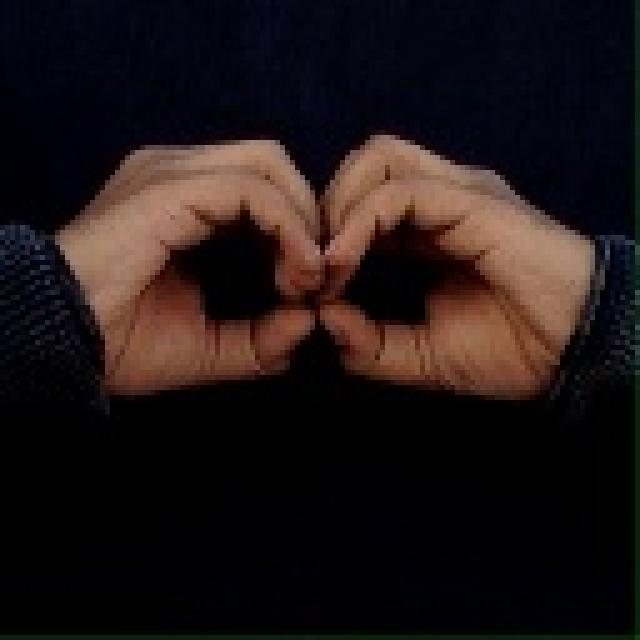Alphabet-B: (77, 122, 603, 426)
